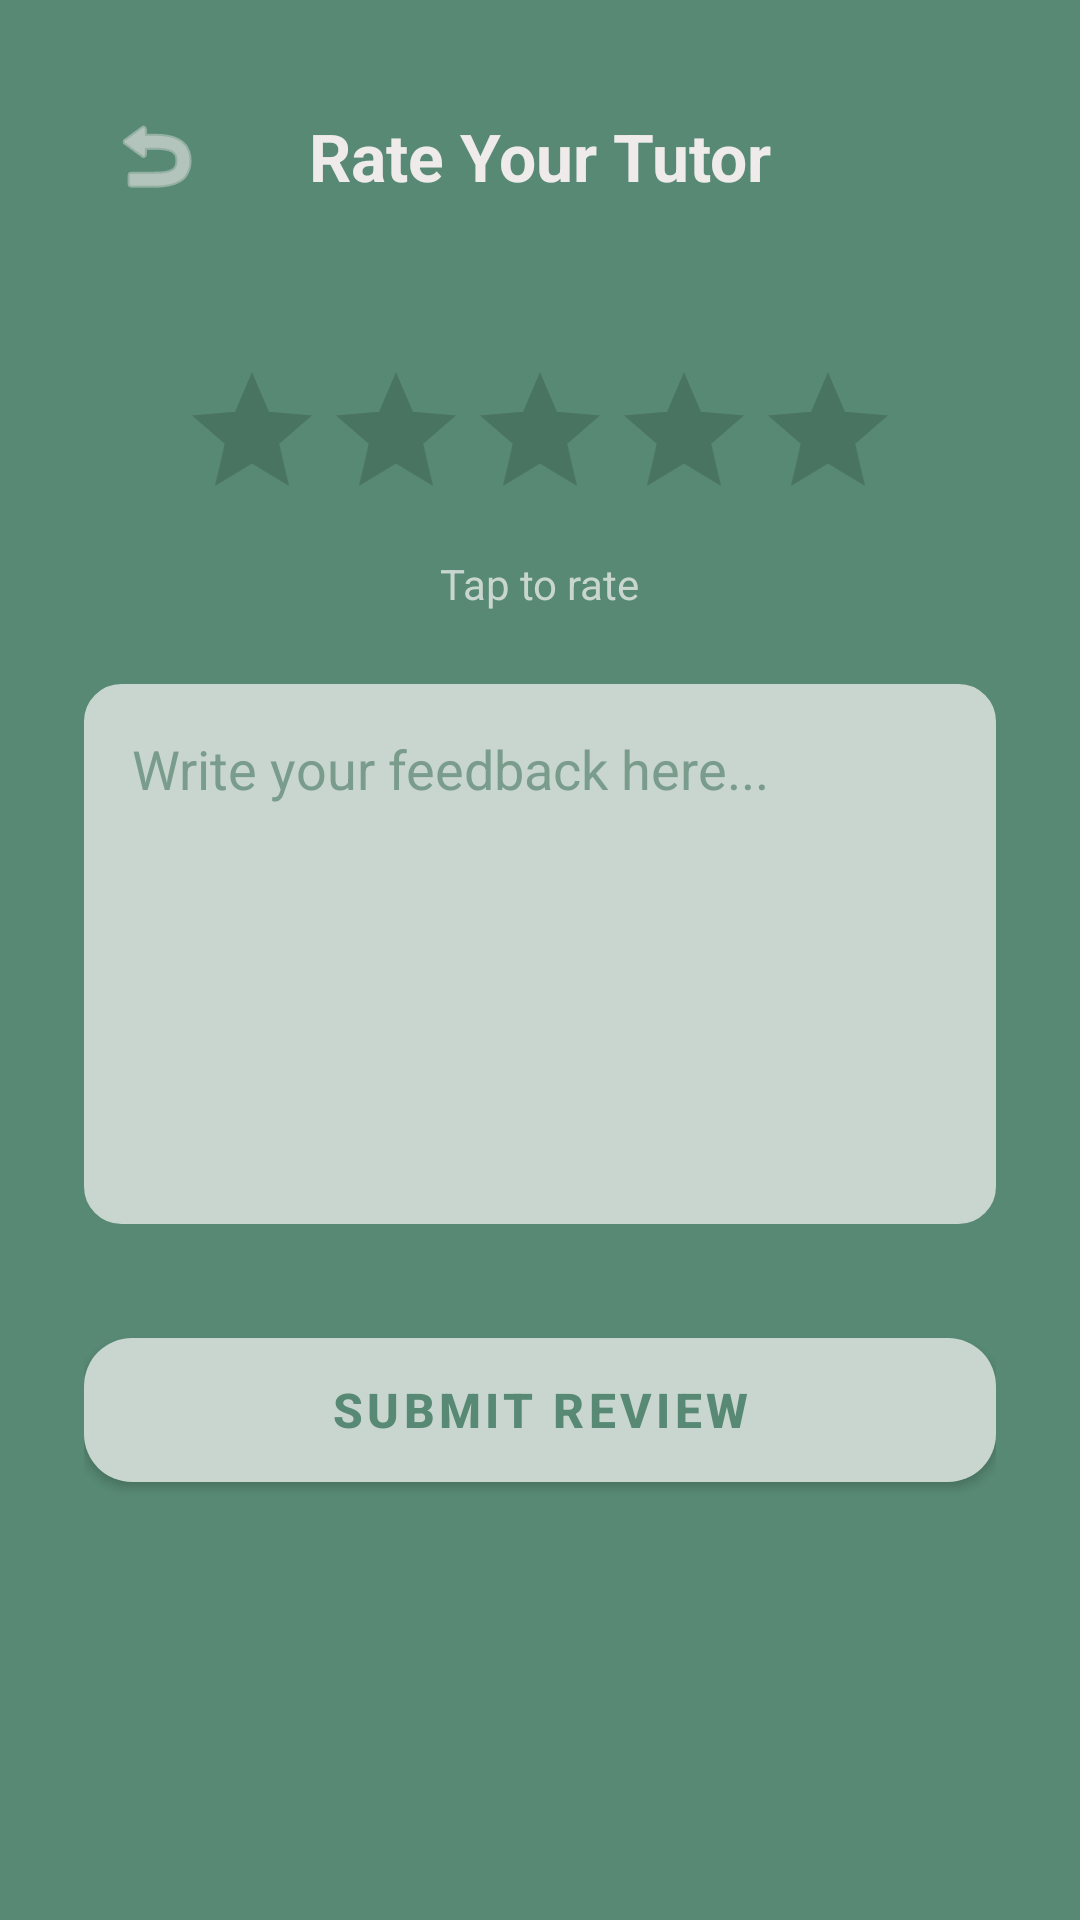

Where icons sit on this 1080 x 1920 app screen, as (x1, y1, x2, y2):
Back: (123, 126, 192, 188)
